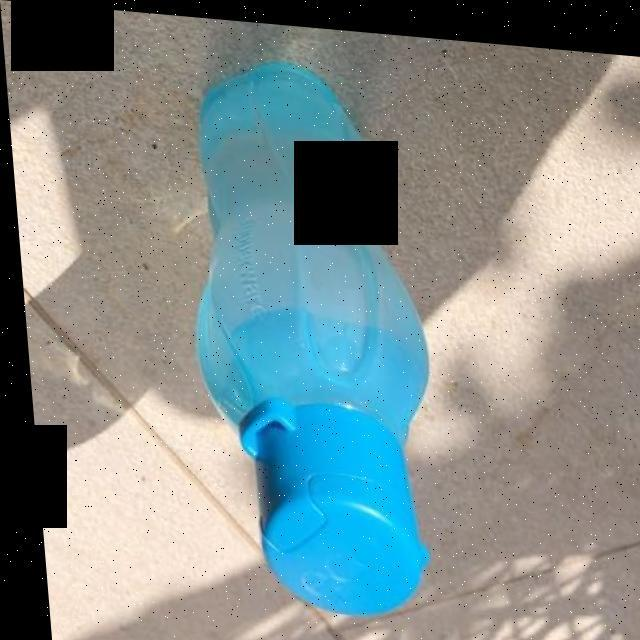water: (170, 53, 431, 408)
